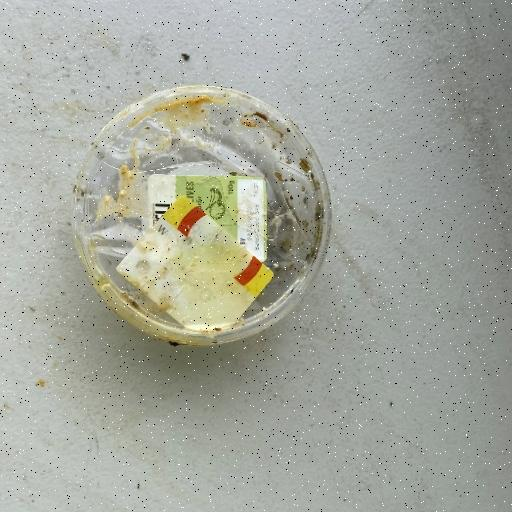Plastic: (70, 82, 334, 348), (114, 192, 274, 334)
